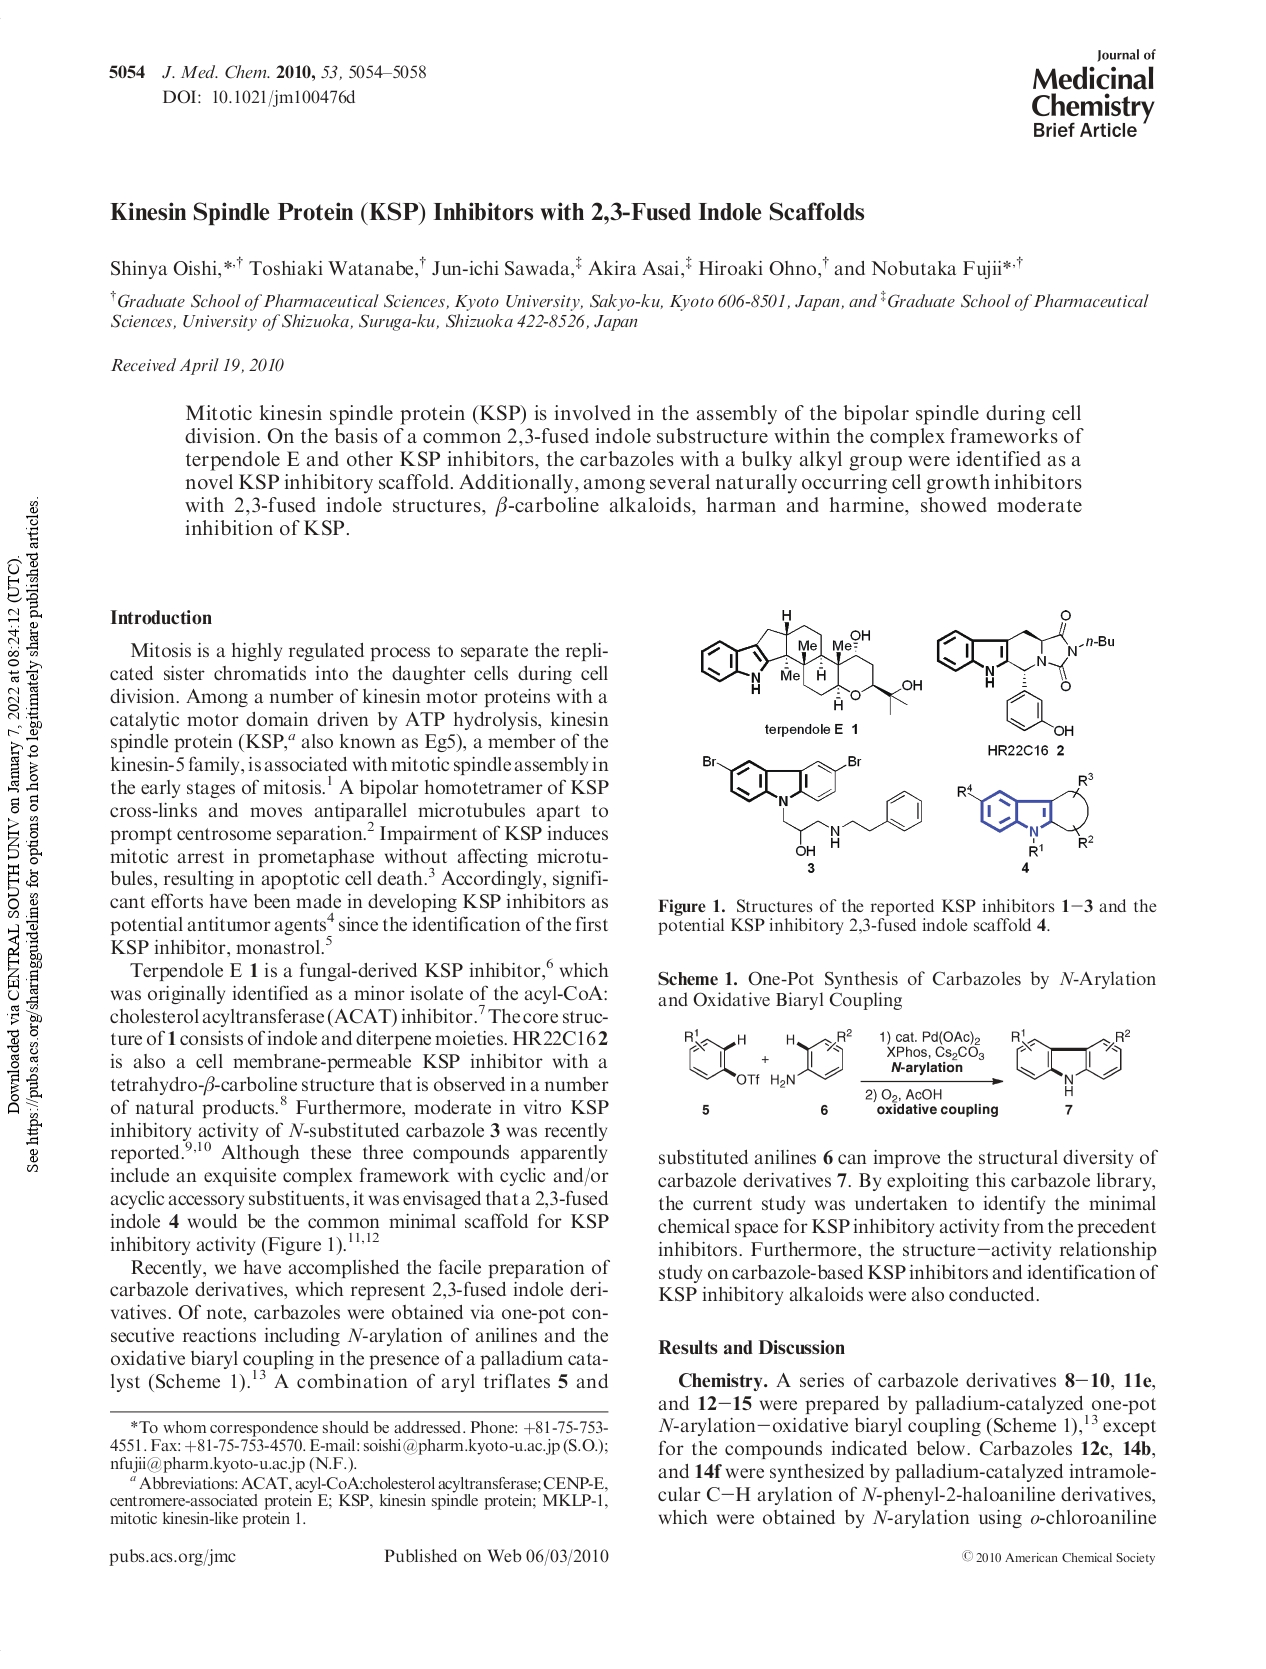exist_molecular: (696, 606, 926, 717), (698, 751, 928, 859), (936, 606, 1118, 738), (956, 767, 1105, 856), (1009, 1025, 1133, 1098), (769, 1021, 858, 1091), (682, 1024, 763, 1091)
